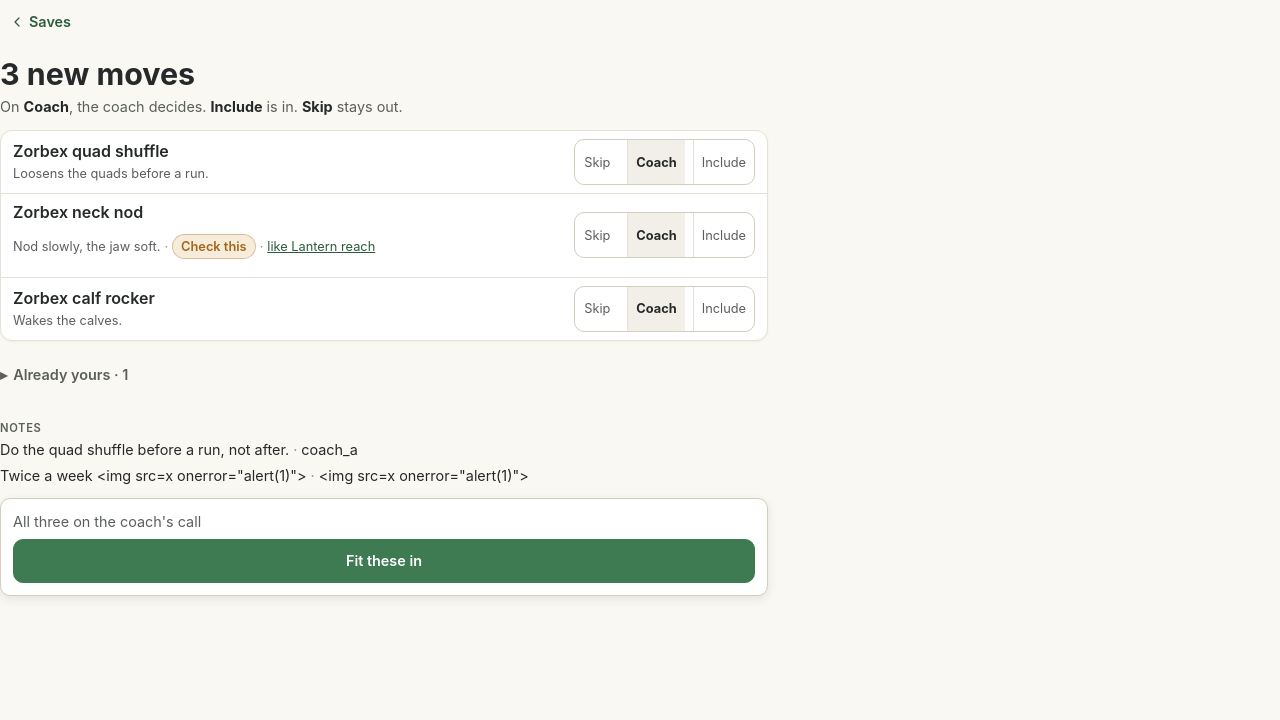
a batch's page (the saves flow redesigned §3.3) › one row per new move, its purpose and control — no creator, no dose; Already yours folded: ▸ Already yours · 1
Expected: the text with class "stu-save-purpose" reads "Loosens the quads before a run.", [13,166,209,181]
Expected: the text with class "stu-save-purpose" reads "Wakes the calves.", [13,313,122,328]
Click the button "▸ Already yours · 1" at [64, 375], box [0,353,128,397]
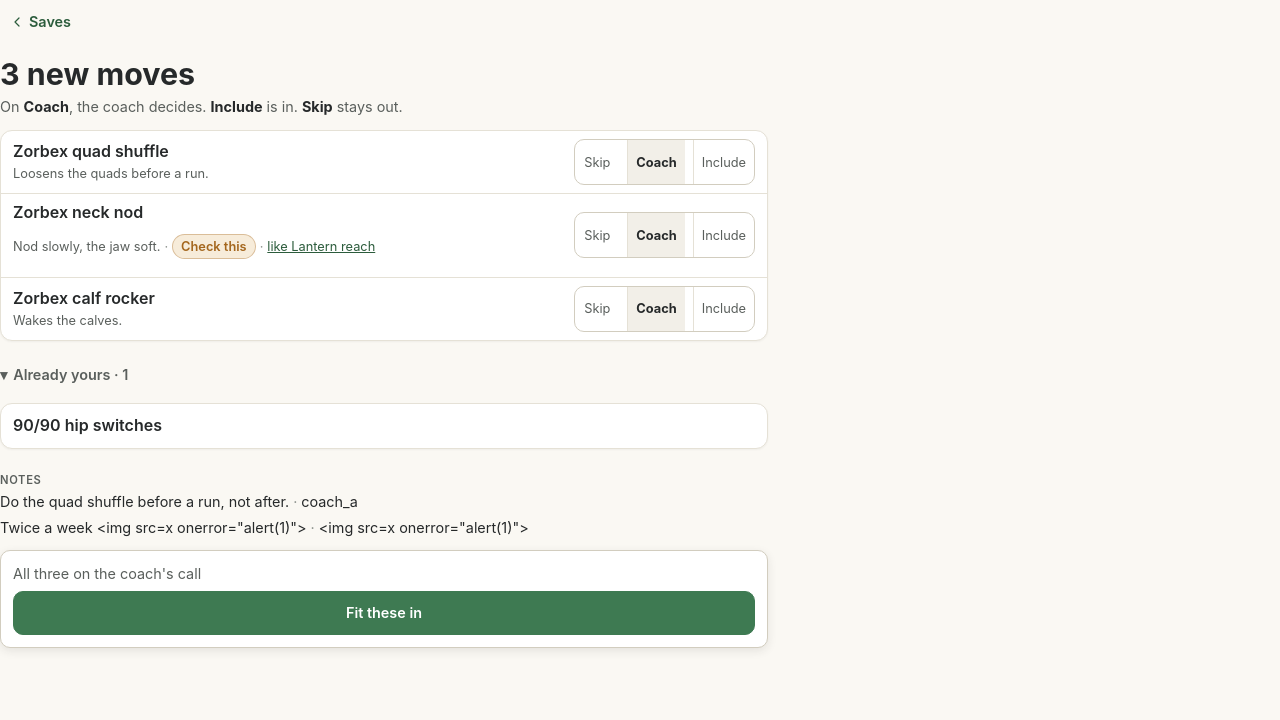
Expected: the element with class "stu-save-owned-row" does not show "8 each side"
Now the button "▾ Already yours · 1" is shown, box [0,353,128,397]
Now the list item with class "stu-save-owned-row" is shown
Click the button "90/90 hip switches" at [87, 426], box [13,416,162,436]
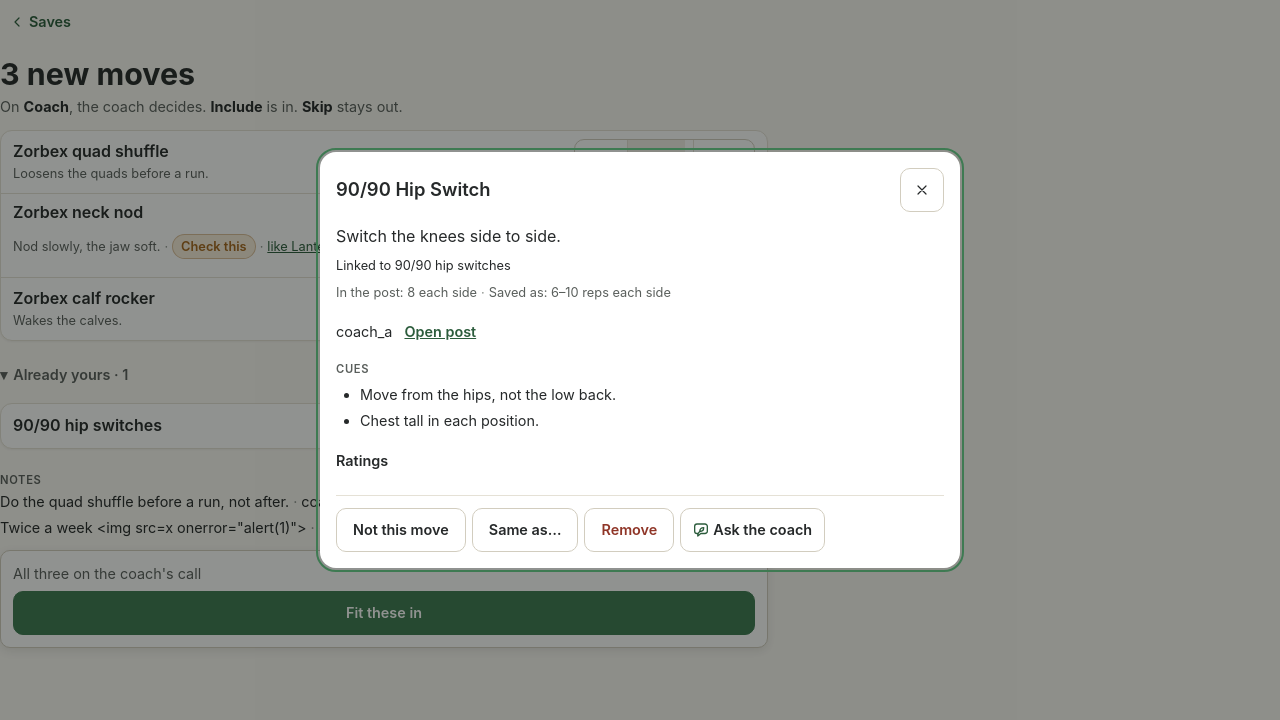
Now the dialog is shown, box [320,152,960,568]
